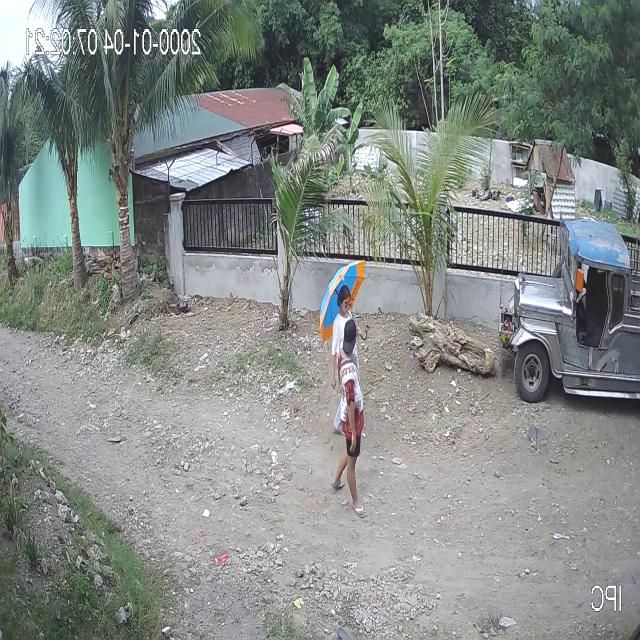walking: (318, 255, 367, 458), (328, 316, 369, 520)
